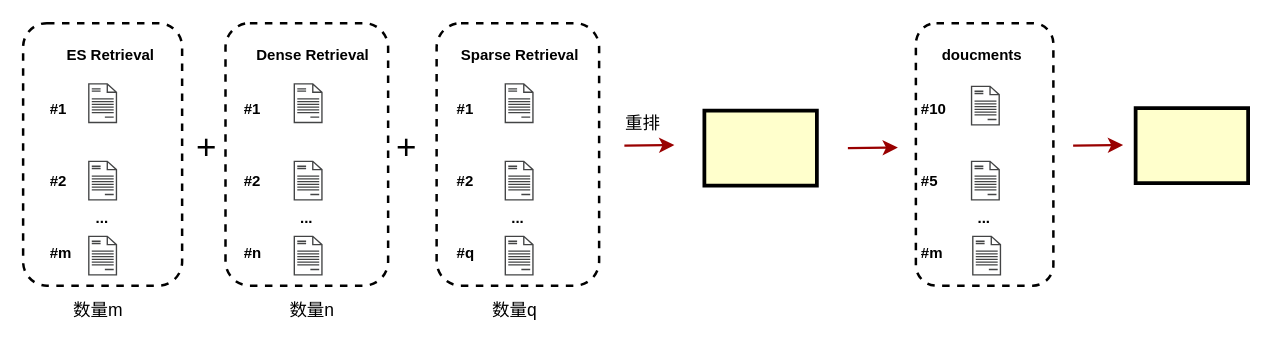
Some shapes in this 1271 by 344 pixel diagram are drawn without their labels. The shapes that lost their labels are listed below. From the top down, each one's centre as x and y in pixels, then its label:
At (760,147): "rerank model".
At (1191,145): "LLM".
